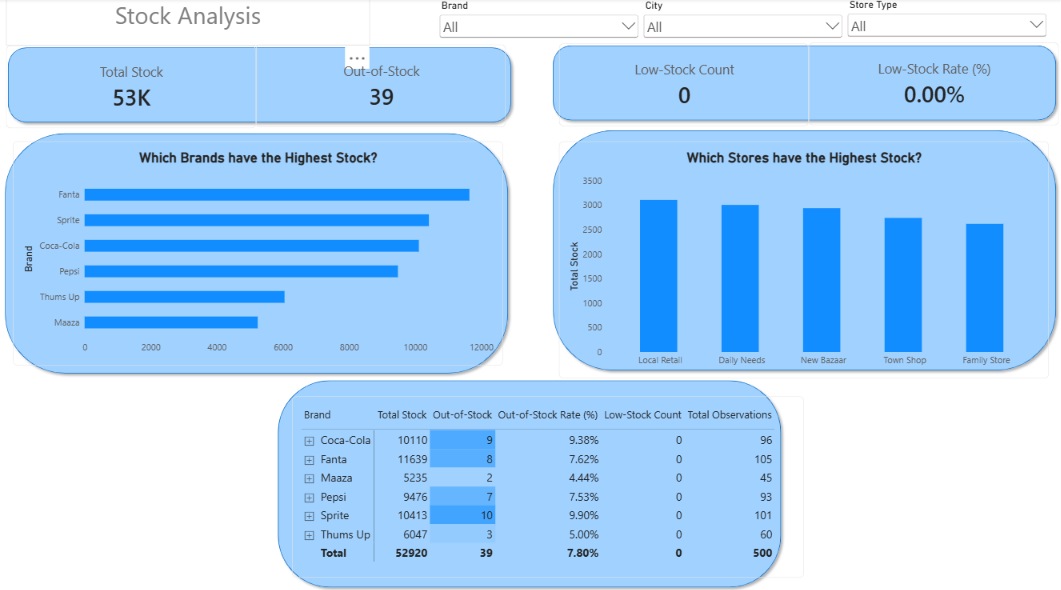

What the dashboard file says about the page in this screenshot:
{"tool":"powerbi","page":{"name":"Stock","canvas":[1920,1080],"ordinal":2},"visuals":[{"type":"group","id":"g1","title":"Background","box":[0,76,1920.1,999.1],"z":0},{"type":"shape","box":[5.4,79.6,928.4,153.8],"z":0,"group":"g1"},{"type":"textbox","box":[10.9,0,658.7,85.1],"z":1000},{"type":"shape","box":[991.7,76,928.4,153.8],"z":1000,"group":"g1"},{"type":"cardVisual","fields":{"Data":["_Measures.Total_Stock"]},"box":[10.9,85.1,452,150],"z":2000},{"type":"shape","box":[0,235.3,928.4,452.4],"z":2000,"group":"g1"},{"type":"cardVisual","fields":{"Data":["_Measures.Low-Stock_Count"]},"box":[1011.6,81.4,452,150],"z":3000},{"type":"shape","box":[991.7,229.8,928.4,452.4],"z":3000,"group":"g1"},{"type":"cardVisual","fields":{"Data":["_Measures.Low-Stock_Rate %"]},"box":[1464,79.6,452,150],"z":4000},{"type":"shape","box":[494.6,682.4,928.4,392.7],"z":4000,"group":"g1"},{"type":"cardVisual","fields":{"Data":["_Measures.Out-of-Stock_Count"]},"box":[463.3,83.2,452,150],"z":5000},{"type":"slicer","fields":{"Values":["Product_Dim.Brand"]},"box":[790.8,1.8,369.2,99.5],"z":6000},{"type":"slicer","fields":{"Values":["City_Dim.City"]},"box":[1160,1.8,369.2,99.5],"z":7000},{"type":"slicer","fields":{"Values":["Store_Type_Dim.Store Type"]},"box":[1529.2,0,369.2,99.5],"z":8000},{"type":"pivotTable","title":"Which are the Top Performing City?","fields":{"Rows":["Product_Dim.Brand","Product_Dim.SKU","Store_Dim.Store Name"],"Values":["_Measures.Total_Stock","_Measures.Out-of-Stock_Count","_Measures.Out-of-Stock_Rate %","_Measures.Low-Stock_Count","_Measures.Total Observations"]},"box":[528,720,926.6,327.7],"z":9000},{"type":"clusteredColumnChart","title":"Which Stores have the Highest Stock?","fields":{"Category":["Store_Dim.Store Name"],"Y":["_Measures.Total_Stock"]},"box":[1011.6,258.8,886.7,428.9],"z":10000},{"type":"clusteredBarChart","title":"Which Brands have the Highest Stock?","fields":{"Category":["Product_Dim.Brand"],"Y":["_Measures.Total_Stock"]},"box":[23.5,258.8,886.7,405.4],"z":11000}]}

Visuals, with their boxes in screenshot pixels (x1, y1, x2, y2), scaled from the page's 1920x1080 canvas onto the 1061x590 screenshot:
"Background" group: rect(0, 42, 1060, 587)
shape: rect(3, 43, 516, 128)
textbox: rect(6, 0, 370, 46)
shape: rect(548, 42, 1060, 126)
cardVisual - _Measures.Total_Stock: rect(6, 46, 256, 128)
shape: rect(0, 129, 513, 376)
cardVisual - _Measures.Low-Stock_Count: rect(559, 44, 809, 126)
shape: rect(548, 126, 1060, 373)
cardVisual - _Measures.Low-Stock_Rate %: rect(809, 43, 1059, 125)
shape: rect(273, 373, 786, 587)
cardVisual - _Measures.Out-of-Stock_Count: rect(256, 45, 506, 127)
slicer - Product_Dim.Brand: rect(437, 1, 641, 55)
slicer - City_Dim.City: rect(641, 1, 845, 55)
slicer - Store_Type_Dim.Store Type: rect(845, 0, 1049, 54)
"Which are the Top Performing City?" pivotTable: rect(292, 393, 804, 572)
"Which Stores have the Highest Stock?" clusteredColumnChart: rect(559, 141, 1049, 376)
"Which Brands have the Highest Stock?" clusteredBarChart: rect(13, 141, 503, 363)
